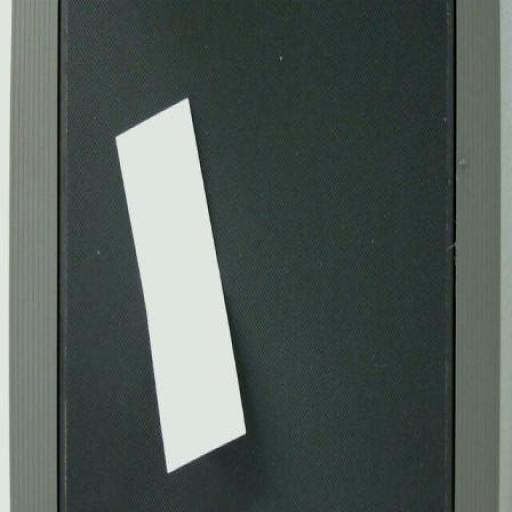paper: (81, 59, 292, 512)
